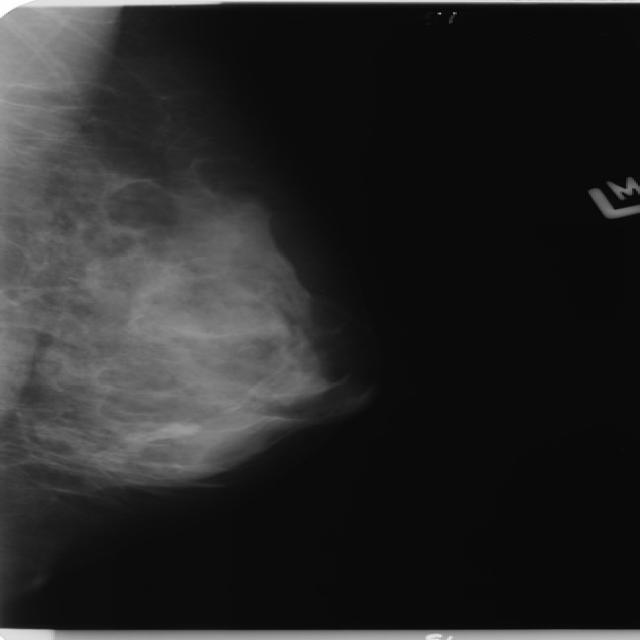tumour: (150, 420, 197, 437)
